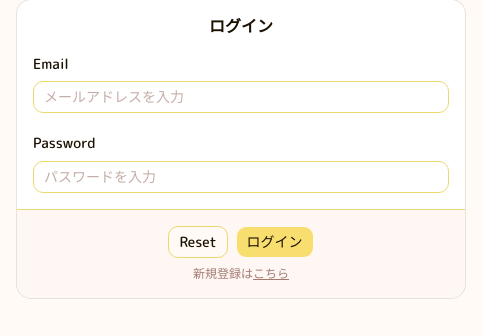
Test: LoginForm › 認証に失敗した場合はエラーメッセージを表示する
Type "test@example.com" into the field labelled "Email" at (241, 97), box [33,81,449,113]
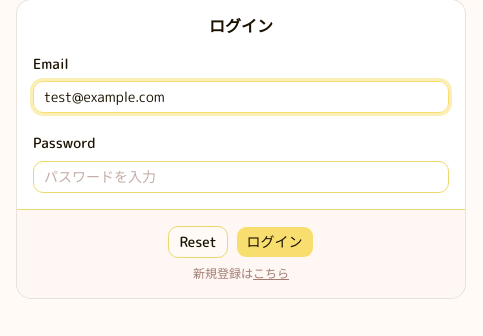
Type "wrong-password" into the password field labelled "Password" at (241, 176), box [33,160,449,192]
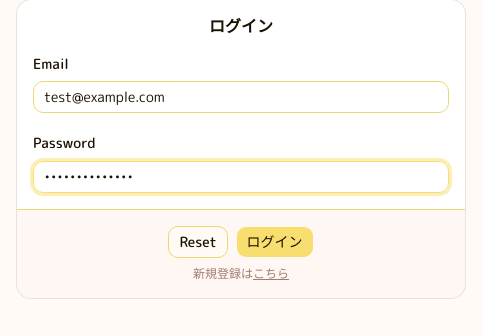
Click the button "ログイン" at (275, 242), box [236,226,314,258]
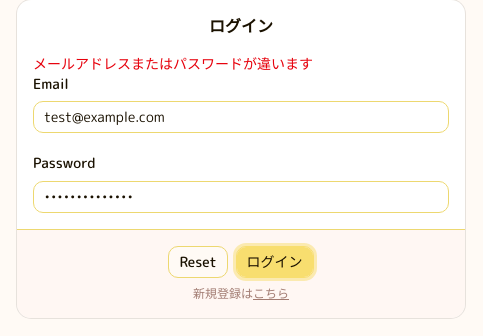
Expected: the text "メールアドレスまたはパスワードが違います" is shown, [33,54,313,73]
